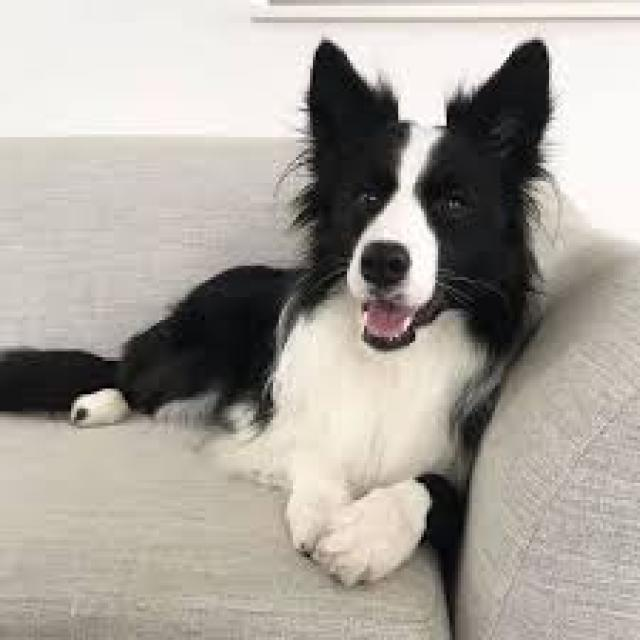BORDER_COLLIE: (0, 27, 569, 580)
